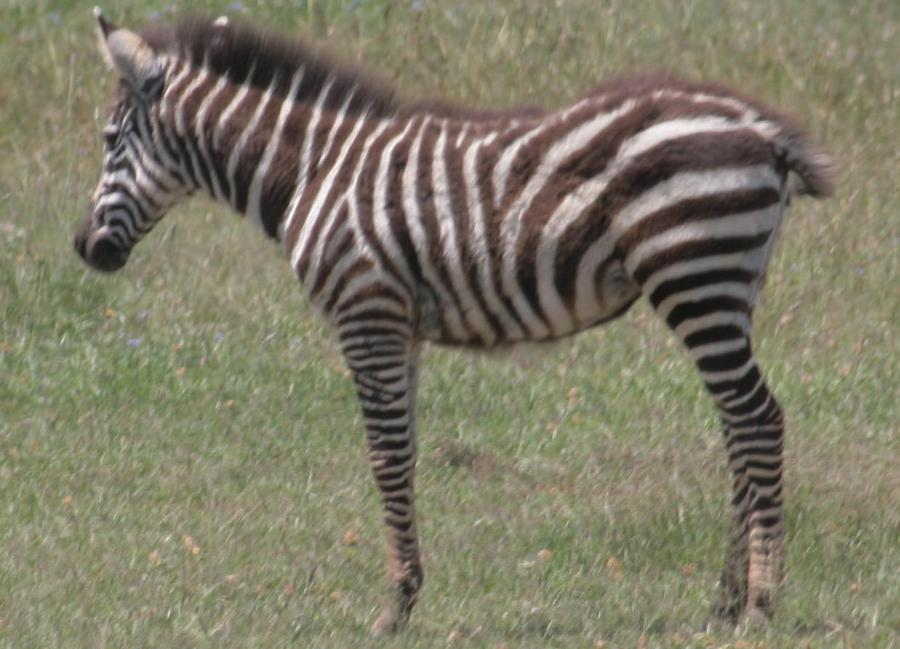zebra_plains: (230, 40, 820, 387)
